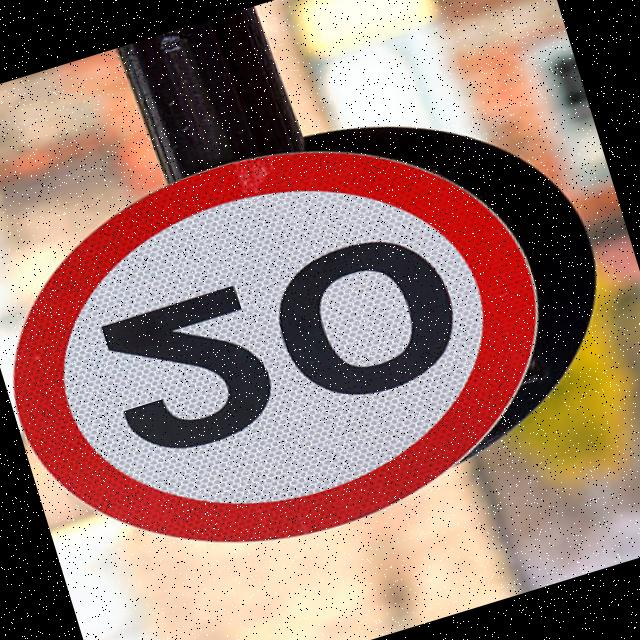speed_limit_20: (0, 83, 581, 612)
